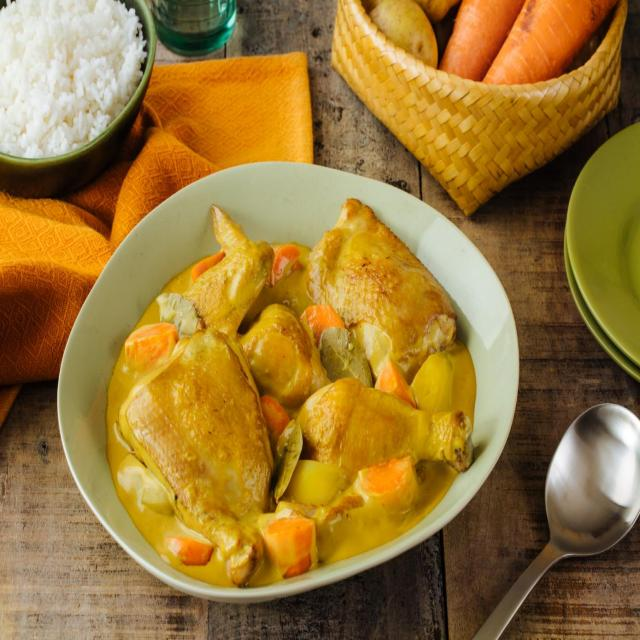chicken: (118, 226, 490, 580)
rice: (0, 1, 179, 185)
